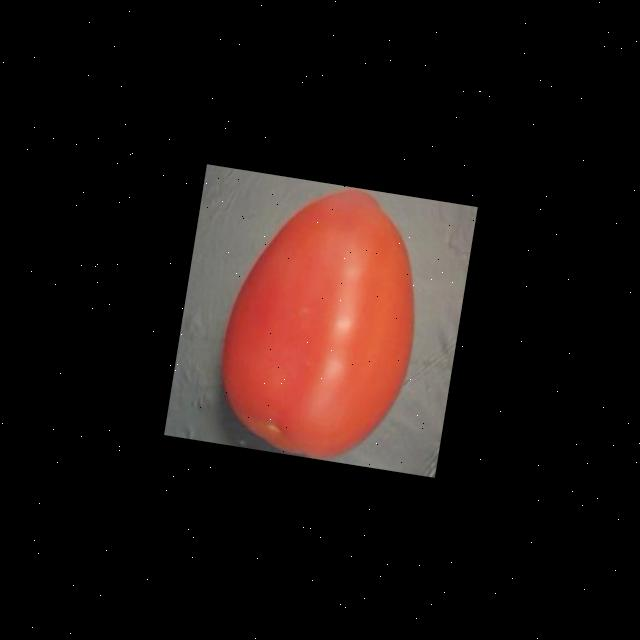tomato: (204, 170, 438, 470)
